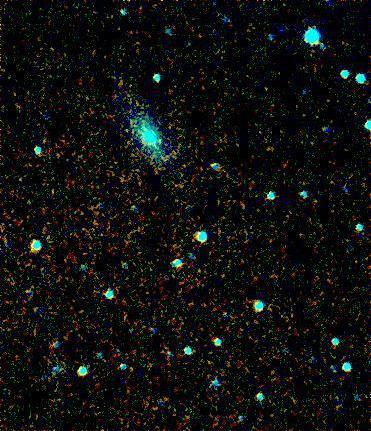star: (145, 124, 175, 154)
